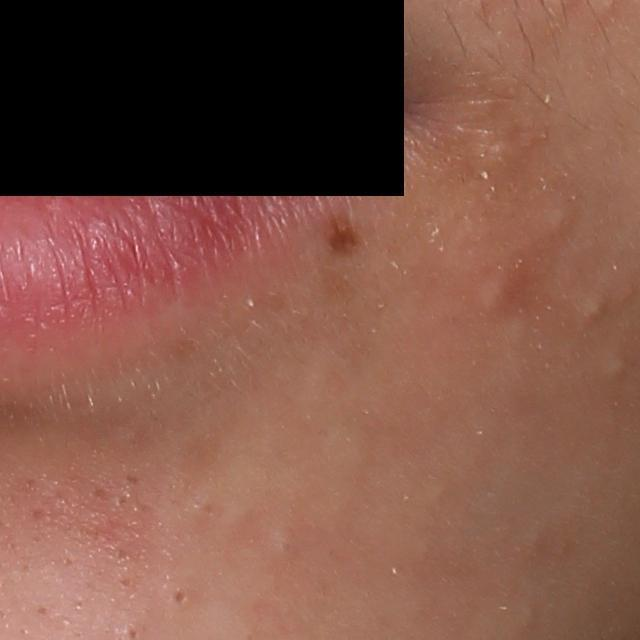comedo: (478, 276, 515, 322), (578, 290, 610, 328), (166, 583, 194, 616), (546, 205, 574, 238), (271, 530, 296, 563), (602, 357, 626, 383)
nevus: (323, 206, 364, 260)
